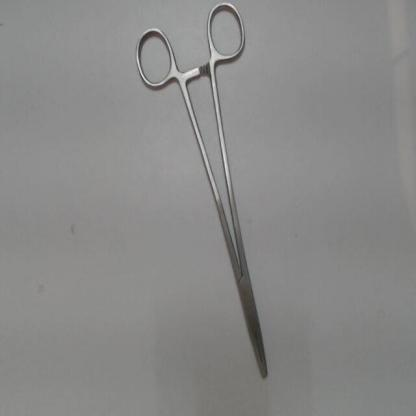8 Mayo Needle Holder: (128, 0, 278, 391)
